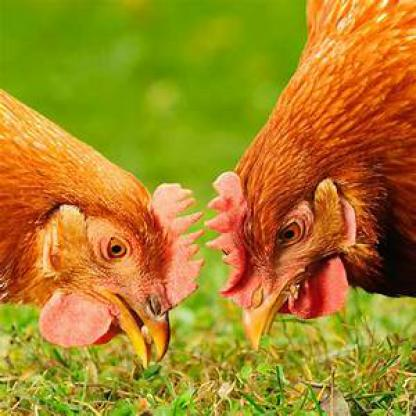chicken: (208, 2, 415, 364)
